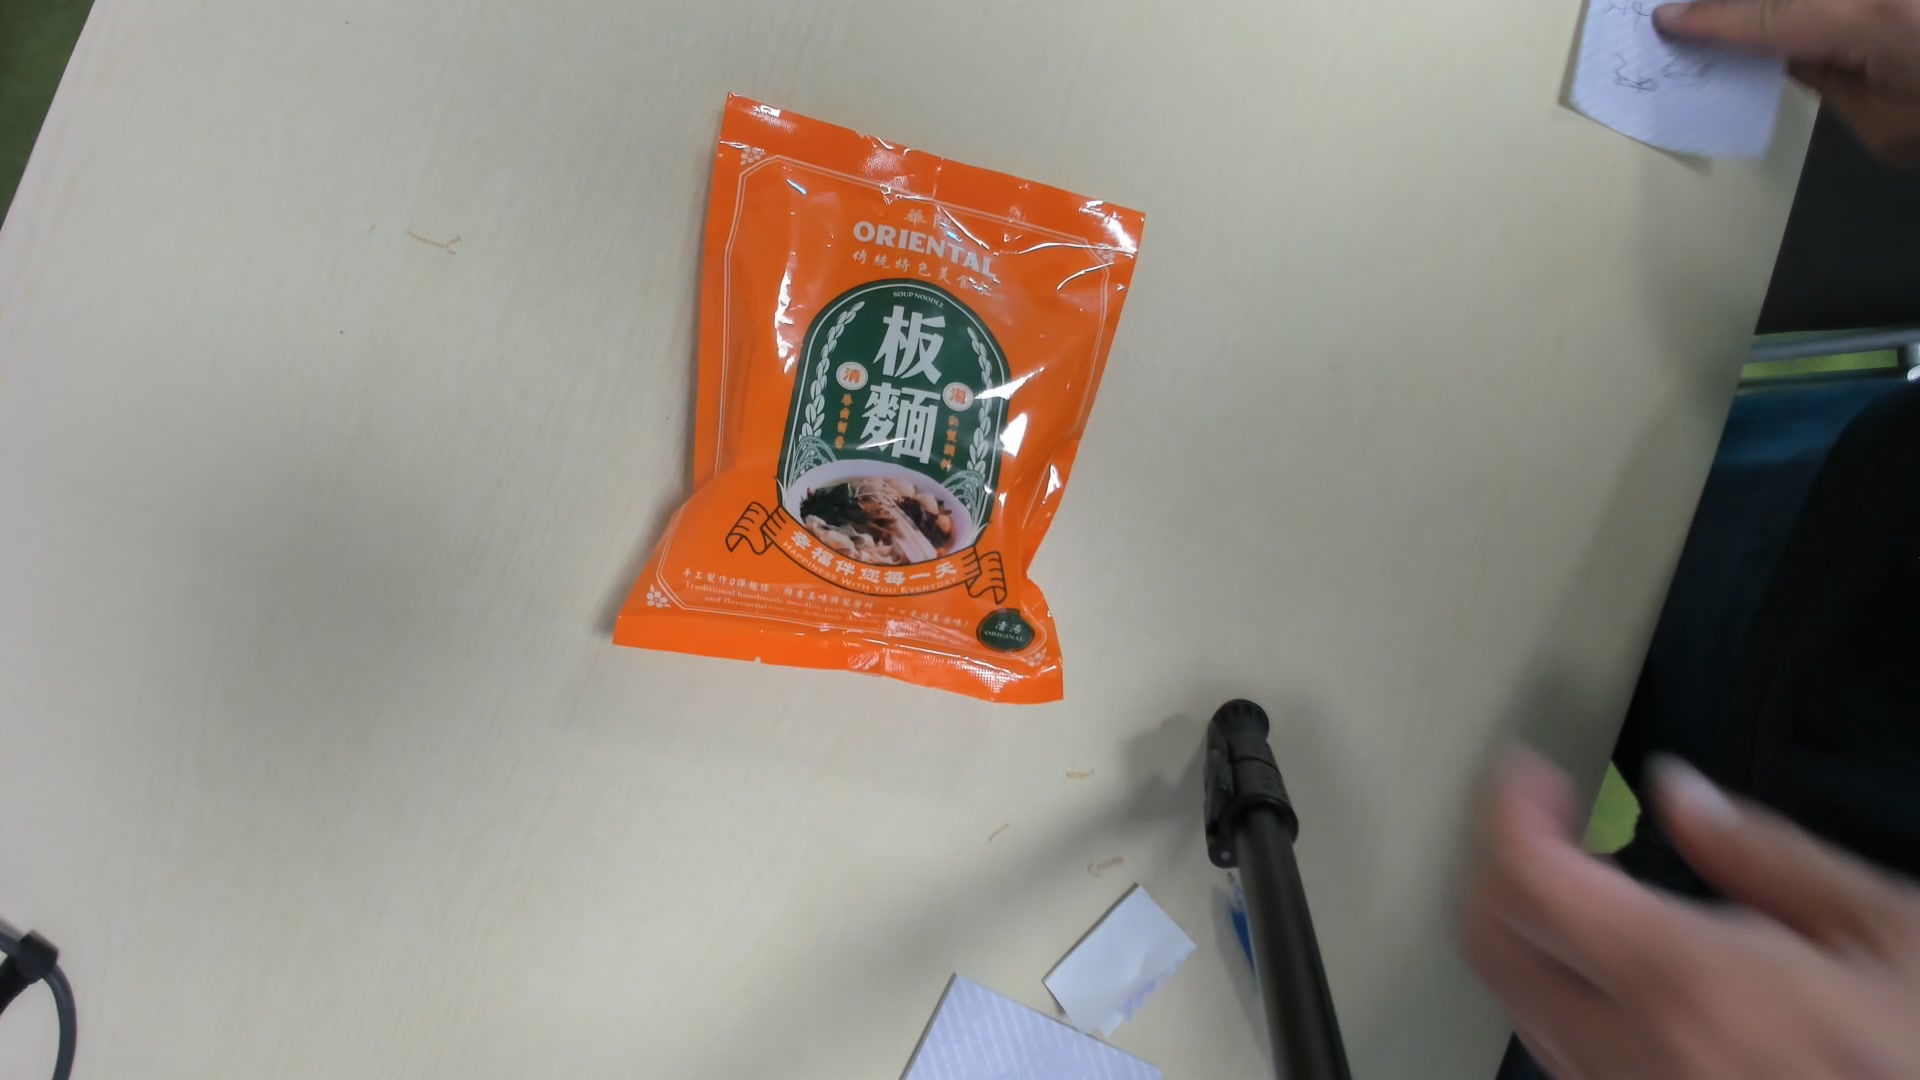InstantMeals_100-199g_NonHalal_Healthy: (611, 100, 1145, 705)
